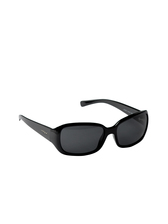glasses: (14, 95, 158, 159)
